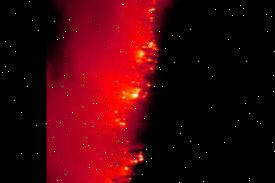fire: (105, 31, 155, 128), (105, 148, 145, 183), (137, 0, 175, 26)
